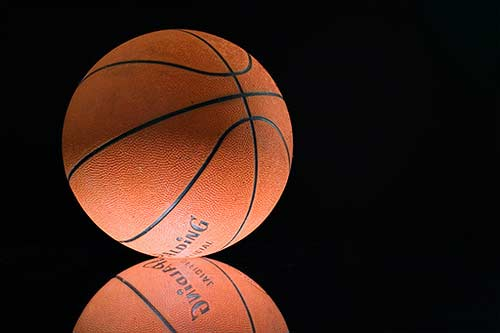basketball: (60, 29, 293, 255), (71, 257, 290, 331)
